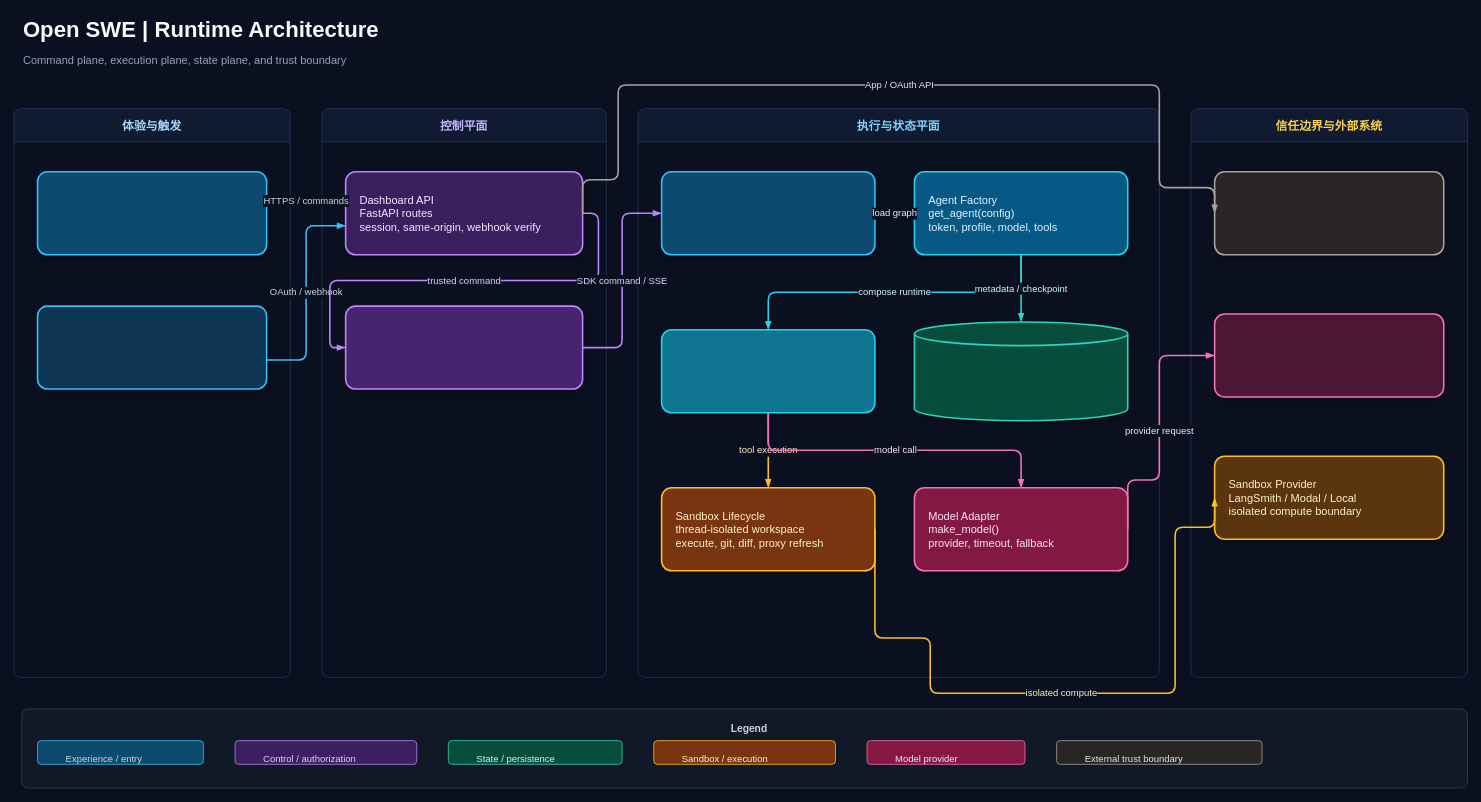
The diagram is 1481 pixels wide and 802 high, and some of its shapes have lost their labels. The shapes that lost their labels are listed below. From the top down, each one's centre as x and y in pixels, then its label:
the point at 152,214: Dashboard UI React + StreamProvider commands / SSE
the point at 768,214: LangGraph Runtime thread / run / checkpoint SDK commands and event stream
the point at 1329,214: GitHub Platform OAuth, App, REST, Git repository authority
the point at 152,348: Desktop / Webhook Electron, GitHub, Slack, Linear human request and event entry
the point at 464,348: Command Proxy thread_api.py authorize, enrich, forward
the point at 1329,356: LLM Endpoint OpenAI-compatible Chat tool decisions and responses
the point at 768,372: Deep Agent Runtime model and tool loop middleware guards every turn
the point at 1021,372: State Store metadata + checkpoints sandbox id, run status, turn refs
